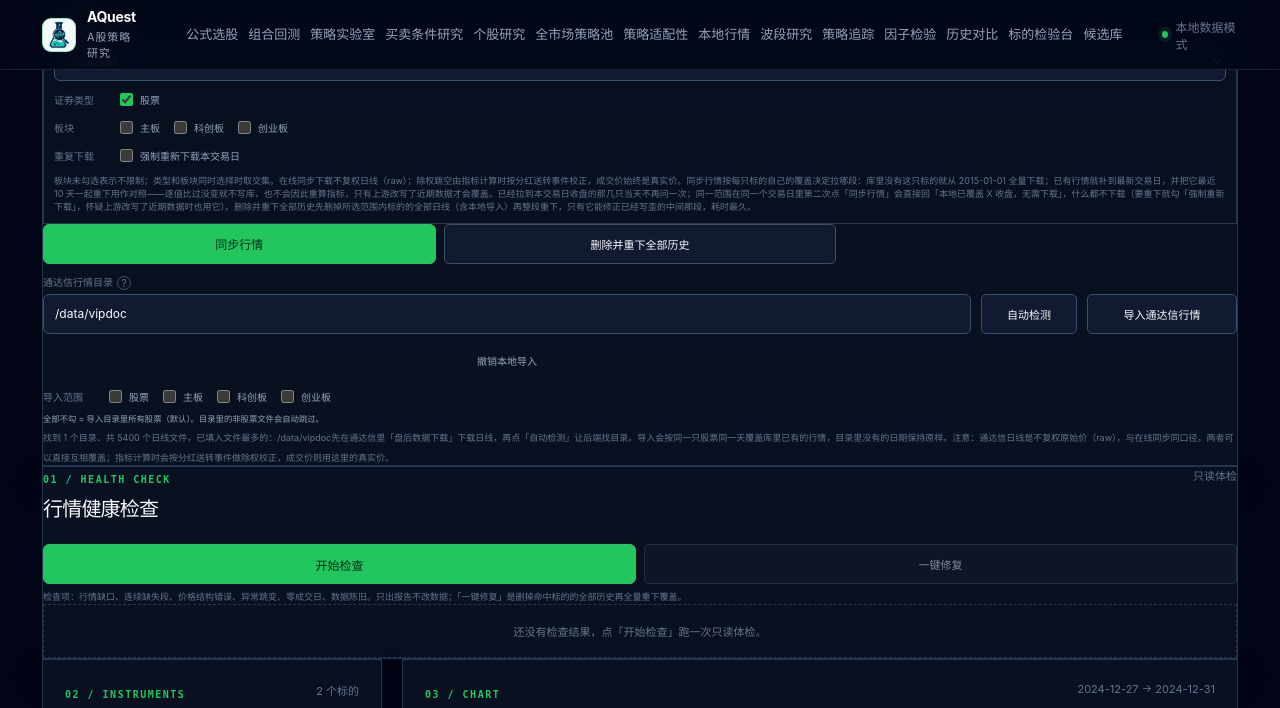
Test: MarketDataPage › undoes a local import through the delete endpoint
The image size is (1280, 708).
(page scrolled)
Click the button with test id "market-local-import-undo" at (507, 361), box [43,344,971,378]
(page scrolled)
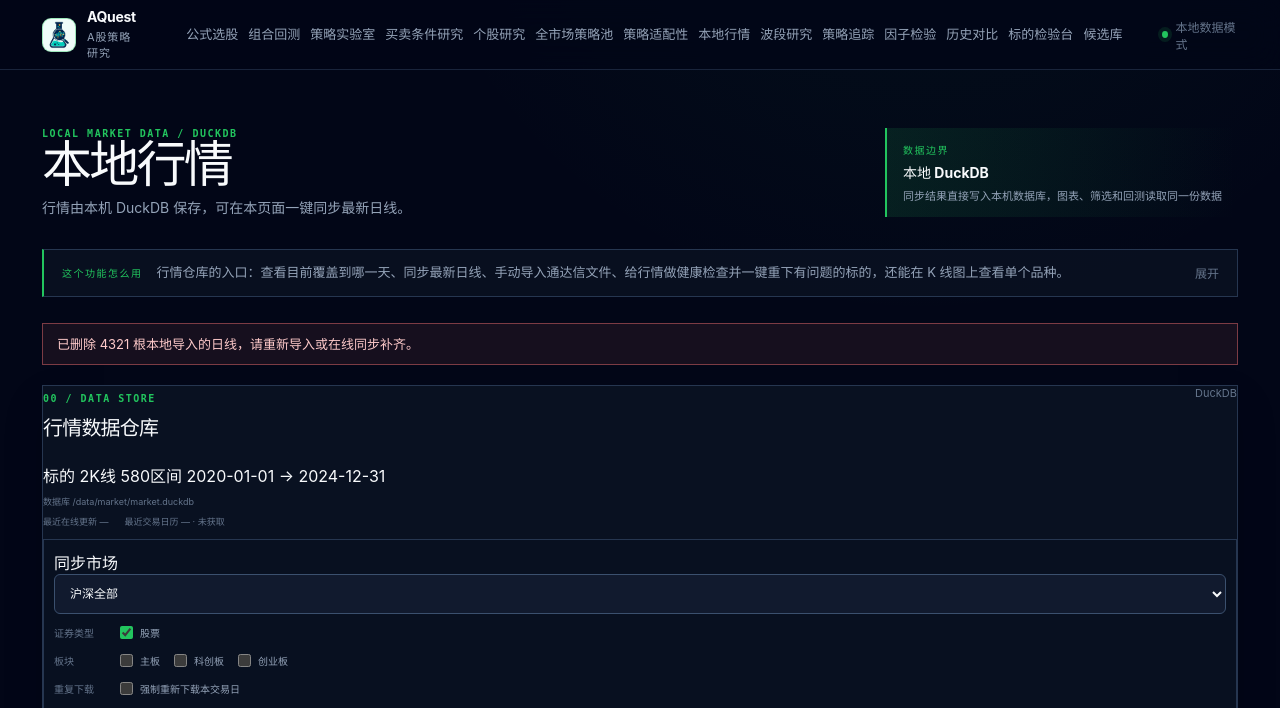
Now the message with test id "market-data-message" shows "4321", box [57,336,419,352]
